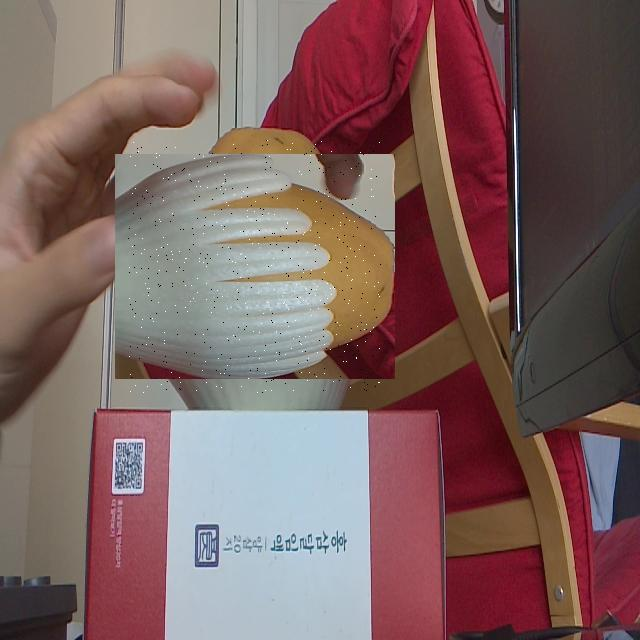pear: (128, 140, 381, 393)
